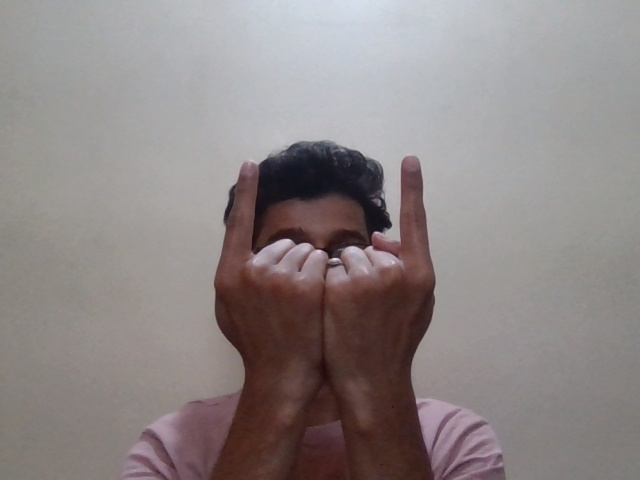when: (209, 150, 474, 393)
